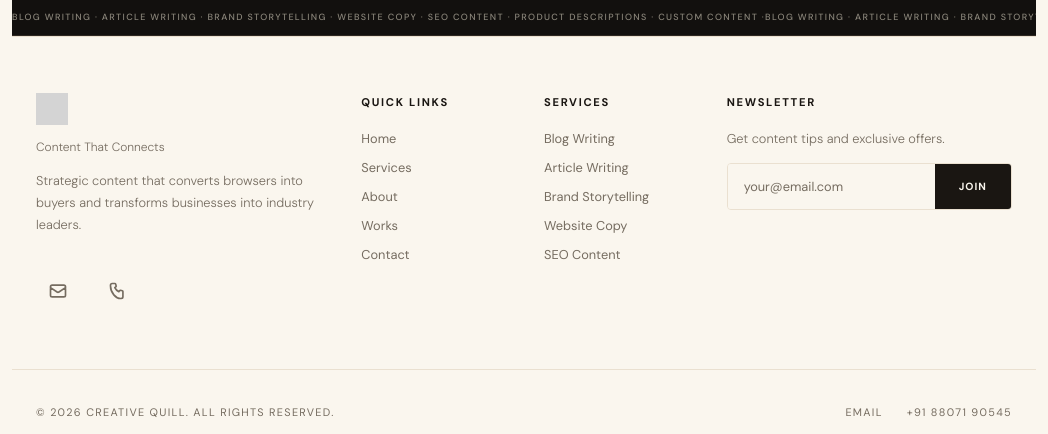
CQFooter › shows success message after valid email is submitted
Type "test@example.com" into the field named "email for newsletter" at (831, 187), box top-left (728, 164), bottom-right (935, 210)
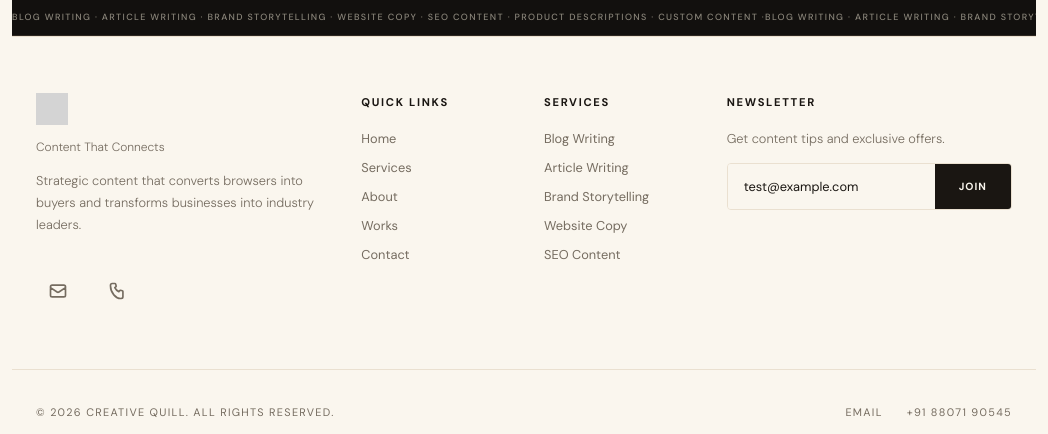
Click the button "Join" at (973, 187), box top-left (935, 164), bottom-right (1011, 210)
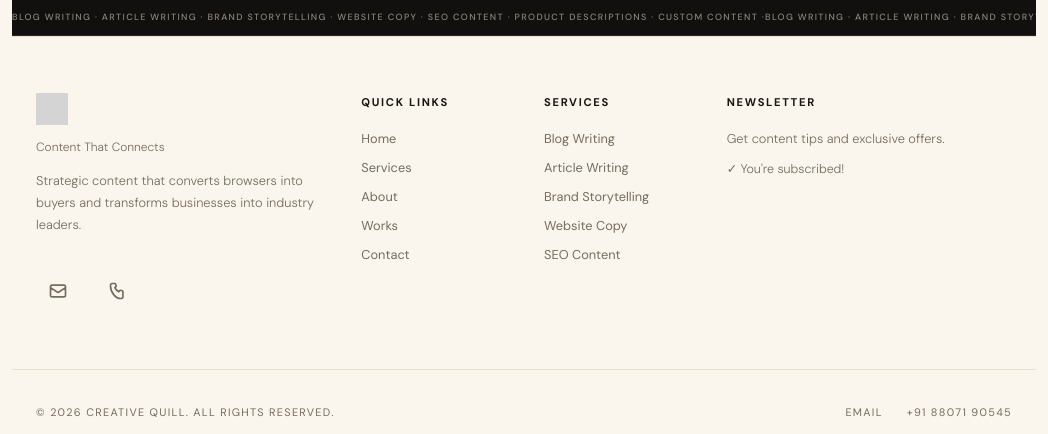
Expected: the text "✓ You're subscribed!" is shown, top-left (727, 161), bottom-right (844, 177)
